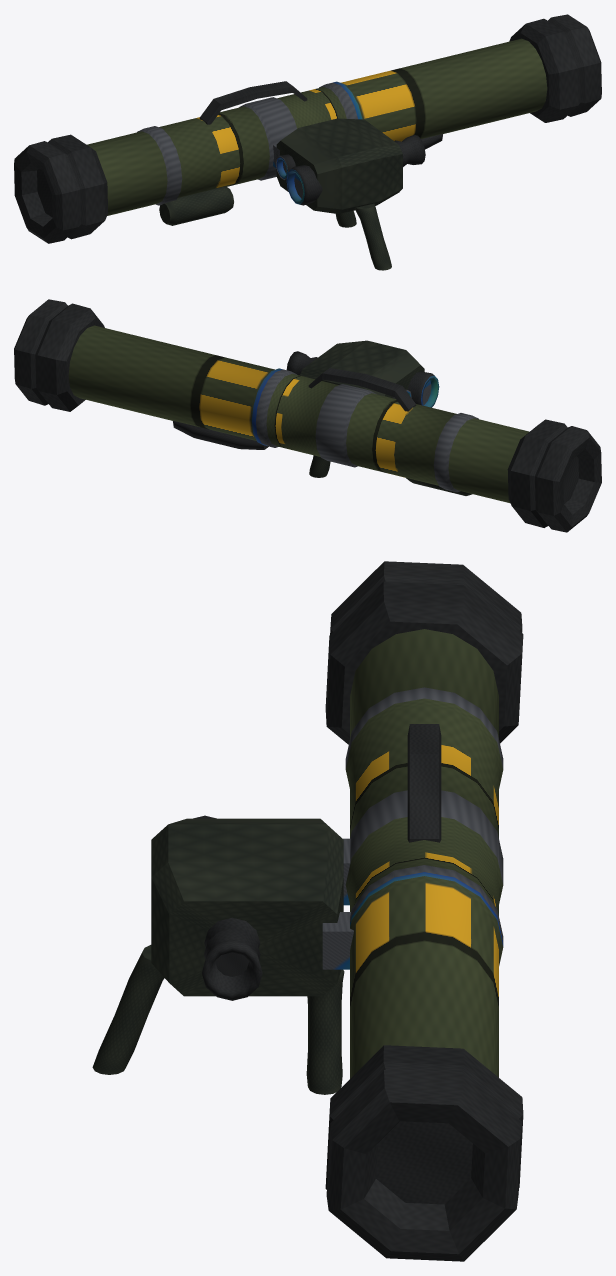
The model's file is javelin.glb.
The picture shows the model from 3 angles, top to bottom: view 1: azimuth 30°, elevation 25°; view 2: azimuth 150°, elevation 25°; view 3: azimuth 270°, elevation 25°; orthographic projection. The views are drawn at different scales.
Visible parts, largest first — view 1: fgm148_javelin; view 2: fgm148_javelin; view 3: fgm148_javelin.
Part boxes in pixels (x1,y1,x2,y2): fgm148_javelin: (14, 14, 601, 270); fgm148_javelin: (14, 299, 601, 532); fgm148_javelin: (92, 561, 523, 1261).
Size of the model in its own units: 1.2 by 0.279 by 0.4102.
Materials: 2 (2 with a texture image).
